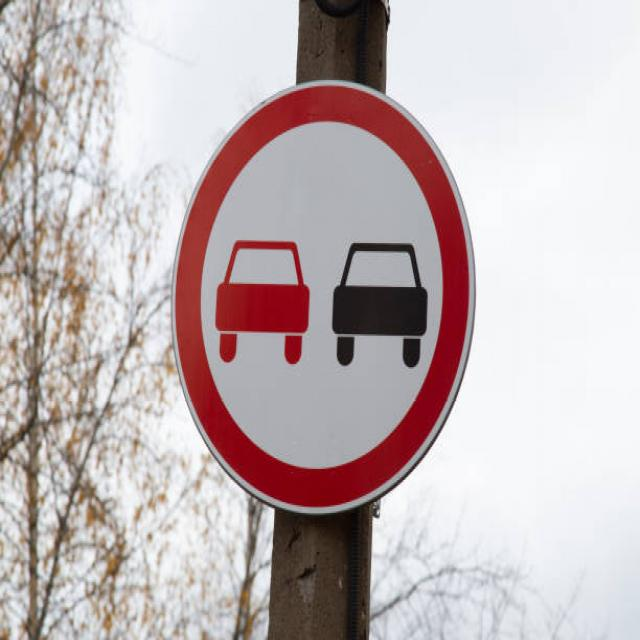no_passing: (164, 75, 478, 528)
